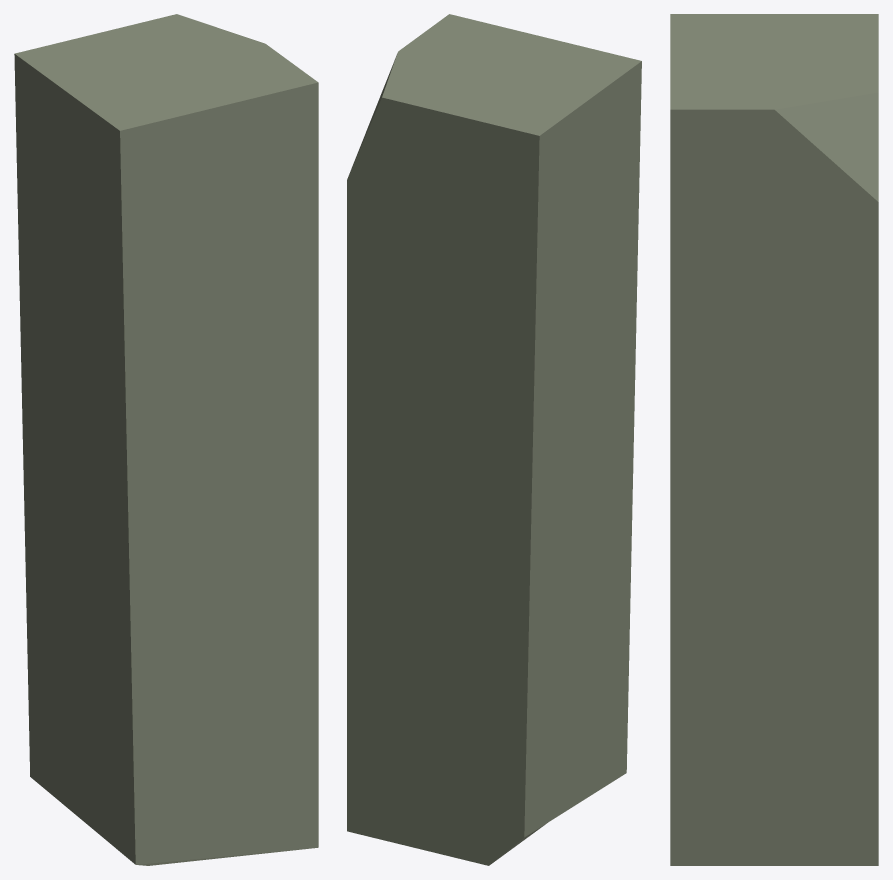
File: pillar_corner_element_1.fbx
3 views of the same model, side by side, from view 1: azimuth 30°, elevation 25°; view 2: azimuth 150°, elevation 25°; view 3: azimuth 270°, elevation 25° (orthographic). The views are drawn at different scales.
Parts seen in each view (by area): view 1: pillar_corner_element_1; view 2: pillar_corner_element_1; view 3: pillar_corner_element_1.
Part boxes in pixels (x1,y1,x2,y2): pillar_corner_element_1: [14, 14, 318, 865]; pillar_corner_element_1: [347, 14, 641, 865]; pillar_corner_element_1: [670, 14, 878, 865].
Size of the model in its own units: 27.15 by 100 by 25.
